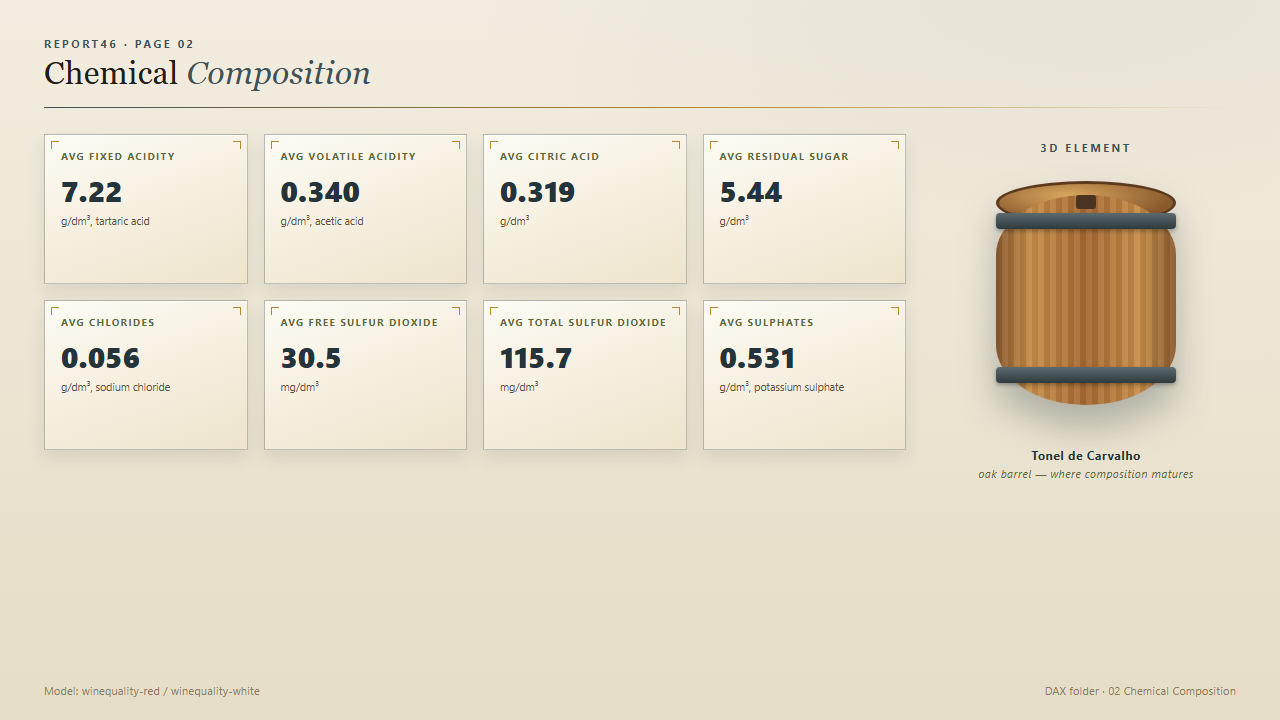

The dashboard page shown, as its layout file describes it:
{"tool":"powerbi","page":{"name":"Composition","canvas":[1280,720],"ordinal":1},"visuals":[{"type":"cardVisual","fields":{"Data":["_Measures.Avg Fixed Acidity"]},"box":[48.4,128.5,199.5,149.6],"z":0},{"type":"cardVisual","fields":{"Data":["_Measures.Avg Volatile Acidity"]},"box":[266,128.5,199.5,149.6],"z":1000},{"type":"cardVisual","fields":{"Data":["_Measures.Avg Citric Acid"]},"box":[482.2,128.5,199.5,149.6],"z":2000},{"type":"cardVisual","fields":{"Data":["_Measures.Avg Residual Sugar"]},"box":[701.4,128.5,199.5,149.6],"z":3000},{"type":"cardVisual","fields":{"Data":["_Measures.Avg Chlorides"]},"box":[48.4,294.8,199.5,149.6],"z":4000},{"type":"cardVisual","fields":{"Data":["_Measures.Avg Free Sulfur Dioxide"]},"box":[266,294.8,199.5,149.6],"z":5000},{"type":"cardVisual","fields":{"Data":["_Measures.Avg Total Sulfur Dioxide"]},"box":[482.2,296.3,199.5,149.6],"z":6000},{"type":"cardVisual","fields":{"Data":["_Measures.Avg Sulphates"]},"box":[701.4,294.8,199.5,149.6],"z":7000},{"type":"pageNavigator","box":[158.7,669.6,799.6,49.9],"z":8000}]}

Visuals, with their boxes in screenshot pixels (x1, y1, x2, y2), scaled from the page's 1280x720 canvas onto the 1280x720 screenshot:
cardVisual - _Measures.Avg Fixed Acidity: rect(48, 128, 248, 278)
cardVisual - _Measures.Avg Volatile Acidity: rect(266, 128, 466, 278)
cardVisual - _Measures.Avg Citric Acid: rect(482, 128, 682, 278)
cardVisual - _Measures.Avg Residual Sugar: rect(701, 128, 901, 278)
cardVisual - _Measures.Avg Chlorides: rect(48, 295, 248, 444)
cardVisual - _Measures.Avg Free Sulfur Dioxide: rect(266, 295, 466, 444)
cardVisual - _Measures.Avg Total Sulfur Dioxide: rect(482, 296, 682, 446)
cardVisual - _Measures.Avg Sulphates: rect(701, 295, 901, 444)
pageNavigator: rect(159, 670, 958, 719)
